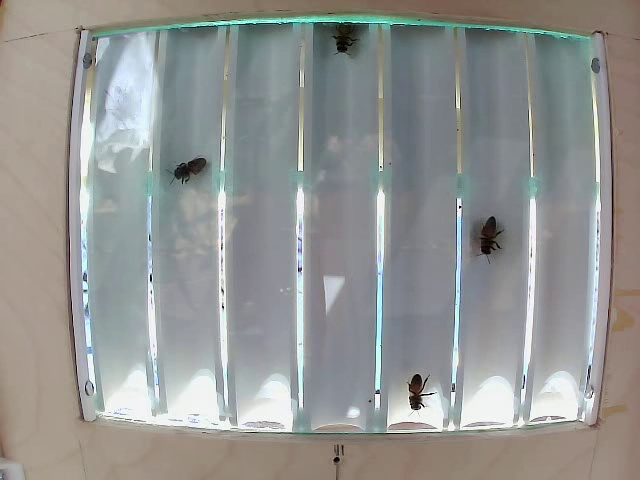bee: (400, 361, 444, 422), (164, 142, 210, 190), (463, 203, 507, 252), (322, 16, 365, 57)
